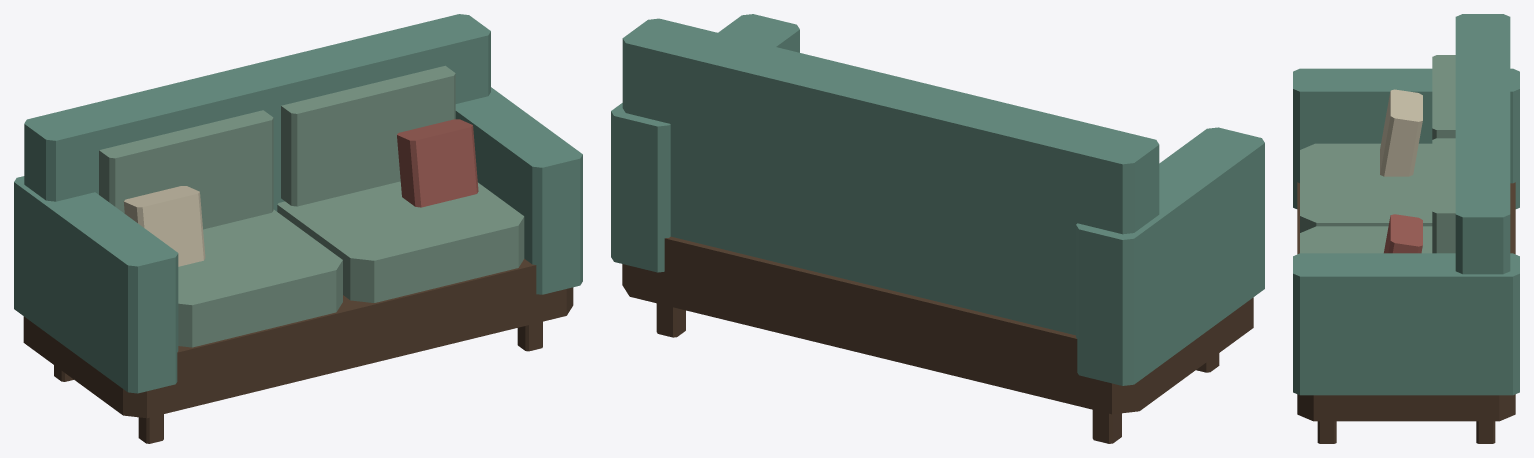
Rendered from sofa.glb.
3 renders of one model, left to right at view 1: azimuth 30°, elevation 25°; view 2: azimuth 150°, elevation 25°; view 3: azimuth 270°, elevation 25°, orthographic. The views are drawn at different scales.
Parts seen in each view (by area): view 1: geometry; view 2: geometry; view 3: geometry.
Boxes of the visible parts, left/top/right/bottom form: geometry: left=14, top=14, right=582, bottom=443; geometry: left=611, top=14, right=1264, bottom=443; geometry: left=1293, top=14, right=1519, bottom=443.
Size of the model in its own units: 1.8 by 0.96 by 0.83.
